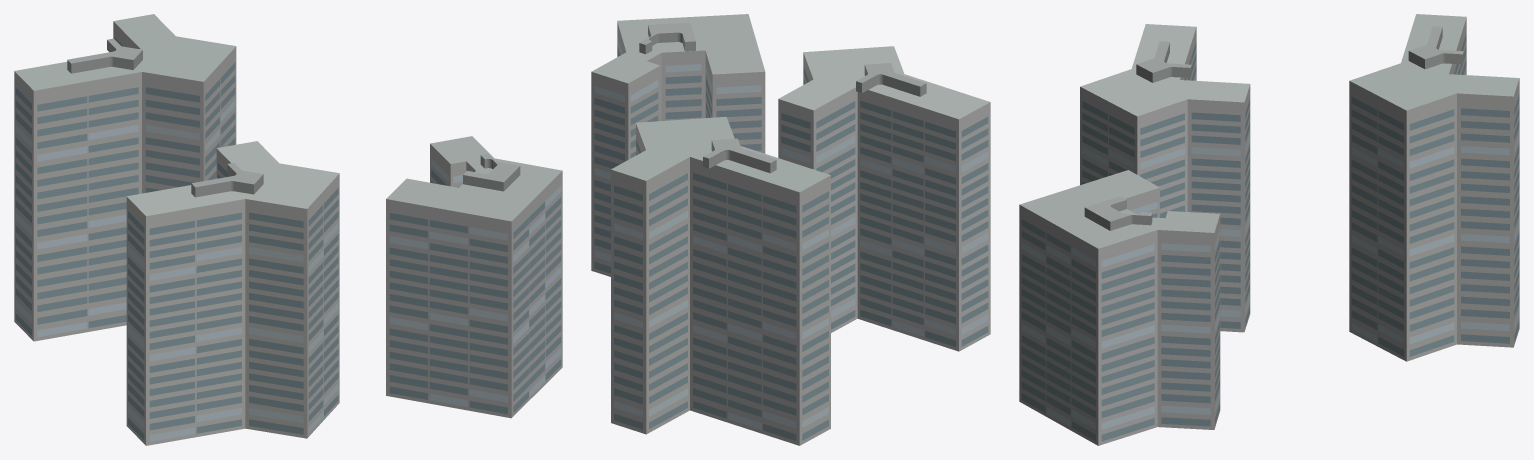
File: apt-a10025092.glb
3 views of the same model, side by side, from view 1: azimuth 30°, elevation 25°; view 2: azimuth 150°, elevation 25°; view 3: azimuth 270°, elevation 25° (orthographic).
Parts seen in each view (by area): view 1: apt-a10025092; view 2: apt-a10025092; view 3: apt-a10025092.
Boxes of the visible parts, box(x1,y1,x2,y2) form: apt-a10025092: box(14, 14, 562, 445); apt-a10025092: box(591, 14, 990, 445); apt-a10025092: box(1019, 14, 1519, 445).
Size of the model in its own units: 97.73 by 62 by 108.
